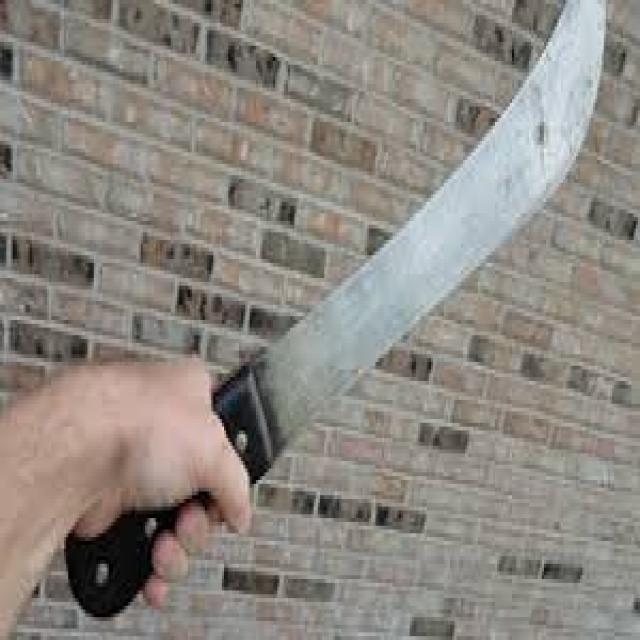long sword: (61, 0, 605, 618)
